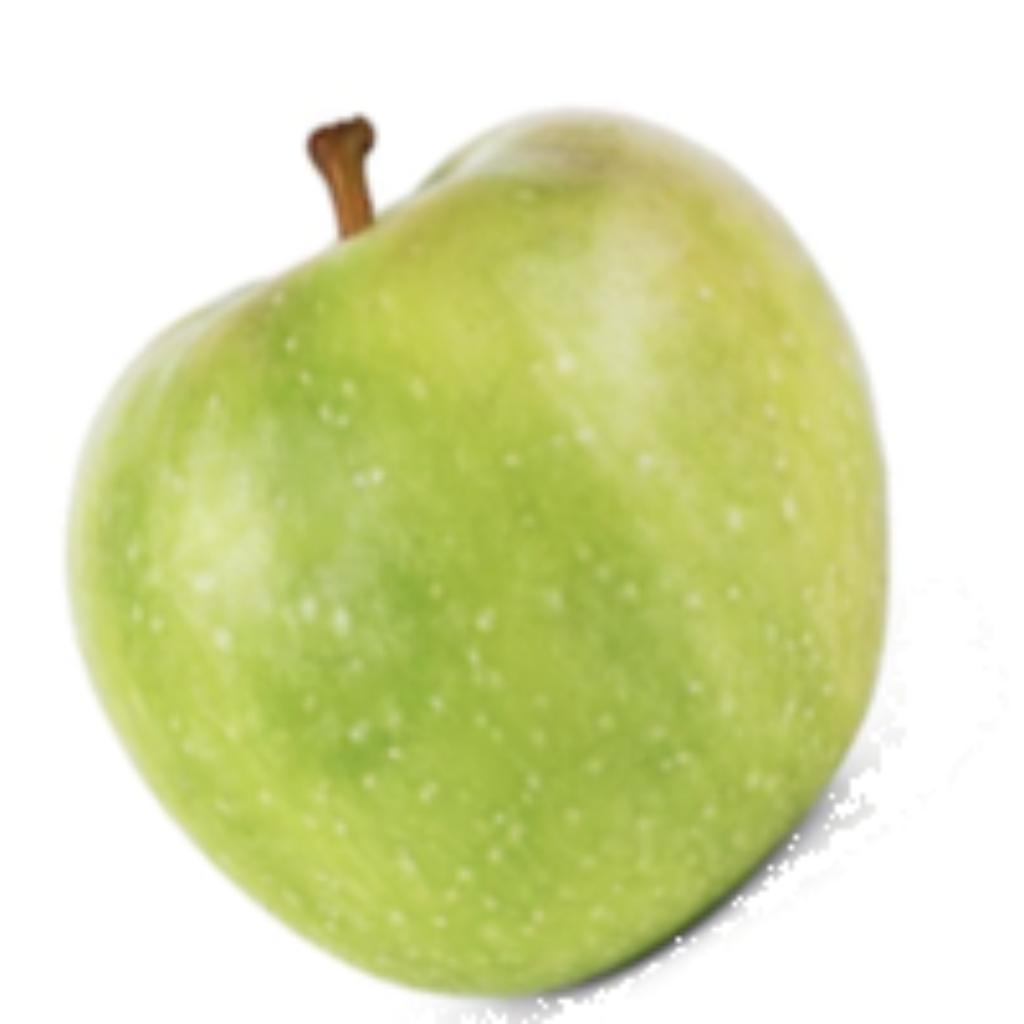apple: (56, 97, 906, 1019)
